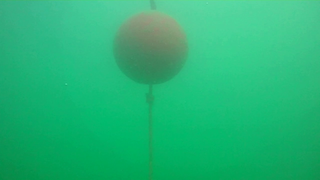bubble: (205, 2, 208, 5), (64, 83, 67, 86)
buoy: (111, 9, 189, 85)
